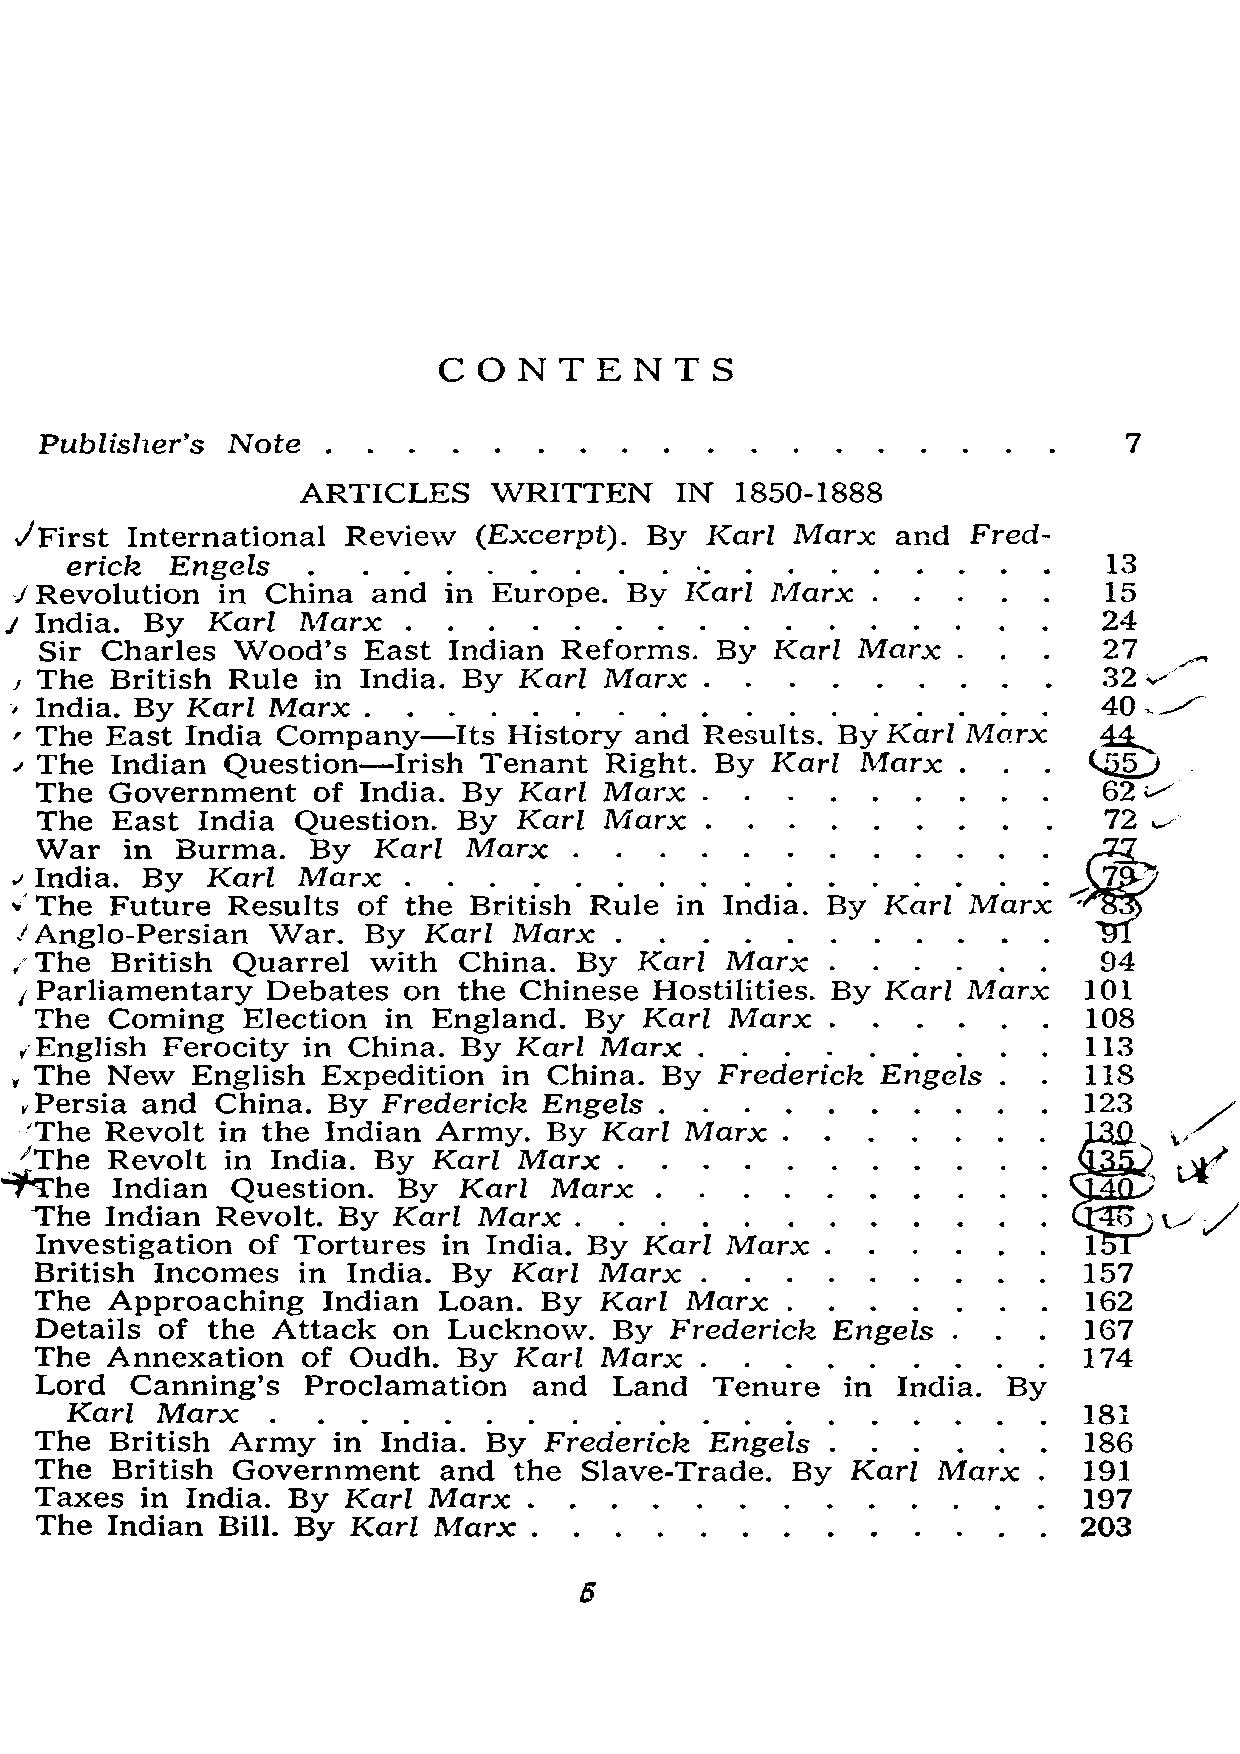TOC_chapter: (36, 523, 1056, 578), (35, 1376, 1048, 1424), (34, 1060, 986, 1091), (34, 1314, 934, 1343), (36, 892, 1051, 918), (31, 1425, 811, 1457), (34, 723, 1047, 747), (38, 752, 937, 778), (34, 1459, 1019, 1483), (34, 978, 1060, 1001), (34, 636, 943, 662), (36, 950, 819, 978), (38, 1005, 811, 1033), (32, 1231, 809, 1257), (36, 1118, 766, 1146), (34, 1290, 770, 1315), (34, 1033, 696, 1060), (31, 1343, 684, 1370), (34, 1259, 683, 1286), (38, 780, 687, 805), (34, 582, 845, 603), (31, 1176, 635, 1202), (294, 478, 887, 505), (30, 921, 601, 947), (34, 1147, 604, 1174), (38, 666, 688, 688), (34, 1092, 640, 1117), (36, 808, 688, 829), (34, 1512, 517, 1541), (34, 836, 552, 862), (31, 1484, 517, 1510), (32, 1205, 564, 1227), (30, 866, 384, 892), (34, 611, 382, 636), (36, 428, 305, 459), (34, 695, 349, 721)
TOC_pagenumber: (1082, 1057, 1135, 1084), (1079, 1400, 1133, 1427), (1082, 1429, 1133, 1457), (1084, 1287, 1133, 1315), (1076, 1512, 1131, 1537), (1084, 1118, 1135, 1143), (1084, 1317, 1133, 1343), (1082, 1343, 1130, 1370), (1084, 1173, 1134, 1198), (1082, 1033, 1133, 1057), (1082, 1090, 1133, 1114), (1084, 1146, 1134, 1170), (1084, 1202, 1133, 1227), (1084, 1260, 1133, 1284), (1084, 1229, 1130, 1255), (1082, 978, 1131, 1001), (1084, 1005, 1134, 1028), (1082, 1487, 1133, 1508), (1084, 1457, 1129, 1480), (1099, 888, 1137, 915), (1098, 692, 1137, 717), (1100, 866, 1137, 891), (1100, 664, 1138, 688), (1099, 722, 1137, 746), (1104, 548, 1138, 574), (1100, 636, 1138, 659), (1099, 778, 1137, 801), (1100, 807, 1138, 829), (1102, 750, 1137, 774), (1100, 609, 1137, 632), (1100, 835, 1137, 858), (1103, 578, 1135, 603), (1099, 947, 1131, 972), (1121, 425, 1143, 459), (1099, 919, 1130, 943), (573, 1578, 597, 1602)
chapter: (433, 352, 738, 386)
